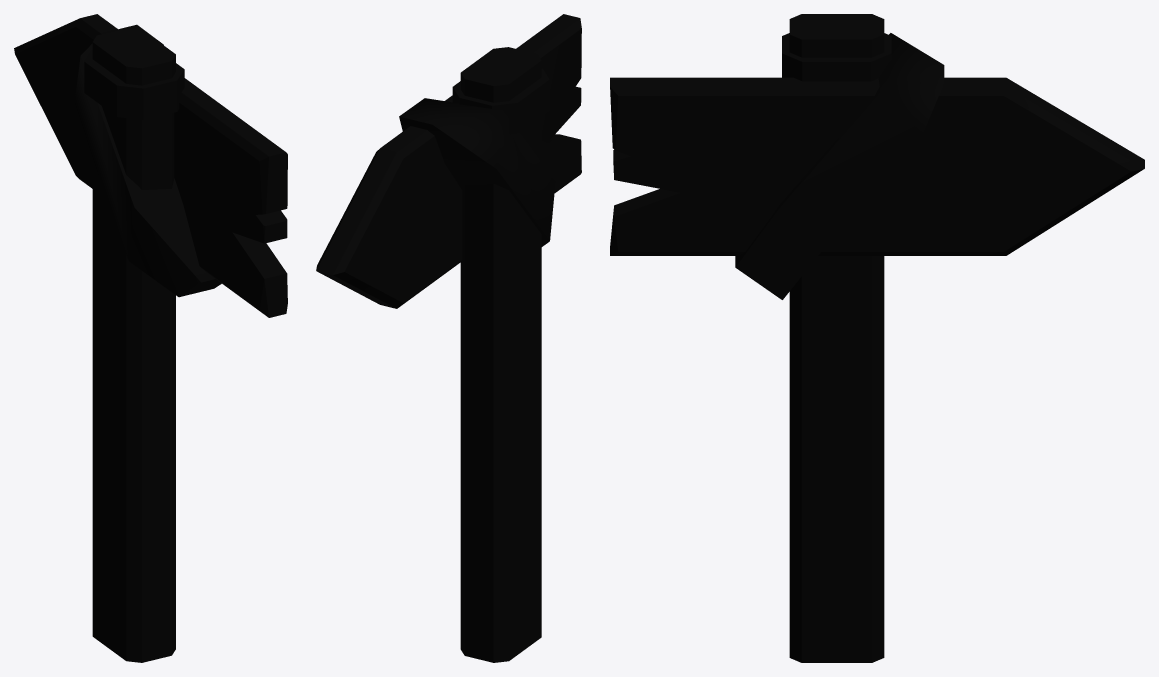
File: ArrowSign.fbx
The picture shows the model from 3 angles, left to right: view 1: azimuth 30°, elevation 25°; view 2: azimuth 150°, elevation 25°; view 3: azimuth 270°, elevation 25°; orthographic projection. The views are drawn at different scales.
Parts seen in each view (by area): view 1: ArrowSign; view 2: ArrowSign; view 3: ArrowSign.
Boxes of the visible parts, box(x1,y1,x2,y2) form: ArrowSign: box(14, 14, 287, 662); ArrowSign: box(316, 14, 581, 662); ArrowSign: box(610, 14, 1144, 662).
Size of the model in its own units: 18.75 by 122 by 94.5.
